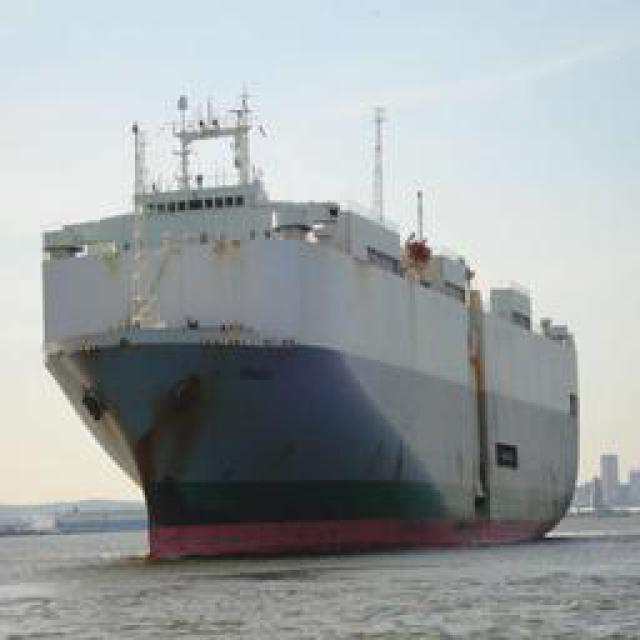Ship: (35, 105, 593, 555)
